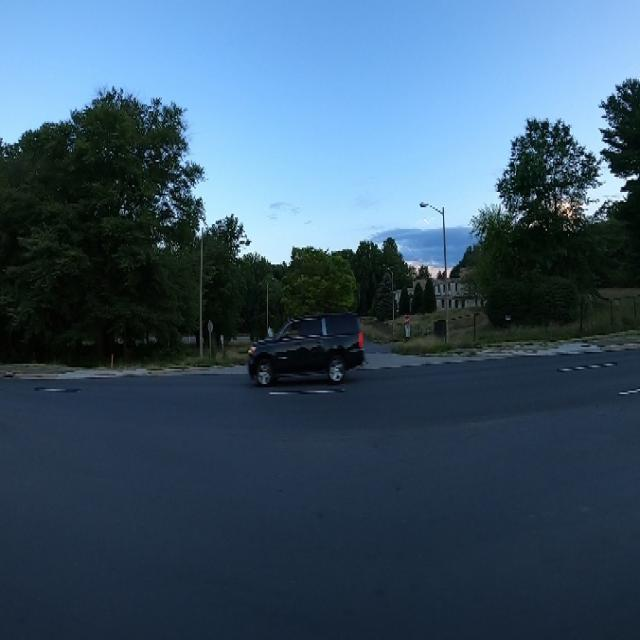car: (238, 310, 376, 396)
